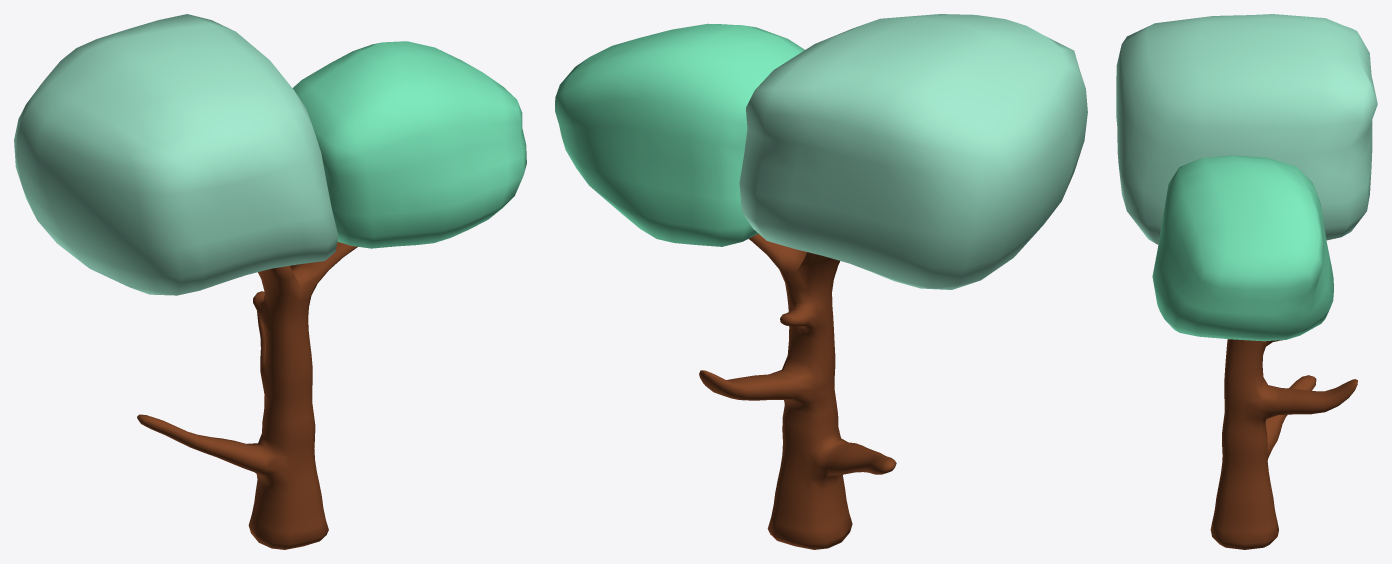
3 renders of one model, left to right at view 1: azimuth 30°, elevation 25°; view 2: azimuth 150°, elevation 25°; view 3: azimuth 270°, elevation 25°, orthographic. The views are drawn at different scales.
Parts seen in each view (by area): view 1: BUSH TWO.001, BUSH ONE.002, Tree.002; view 2: BUSH TWO.001, BUSH ONE.002, Tree.002; view 3: BUSH TWO.001, BUSH ONE.002, Tree.002.
Part boxes in pixels (x1,y1,x2,y2): BUSH TWO.001: (14,14,338,295); BUSH ONE.002: (292,41,526,248); Tree.002: (137,241,357,549); BUSH TWO.001: (739,14,1087,289); BUSH ONE.002: (555,23,804,246); Tree.002: (699,233,896,549); BUSH TWO.001: (1116,14,1377,244); BUSH ONE.002: (1152,155,1333,341); Tree.002: (1210,339,1357,549).
Size of the model in its own units: 1149 by 2229 by 2120.
